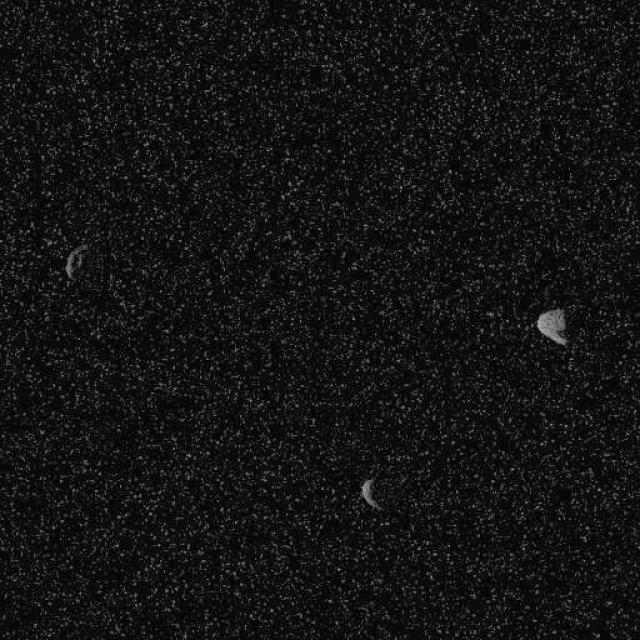D2: (535, 306, 567, 345), (64, 244, 88, 281), (358, 476, 382, 512)
